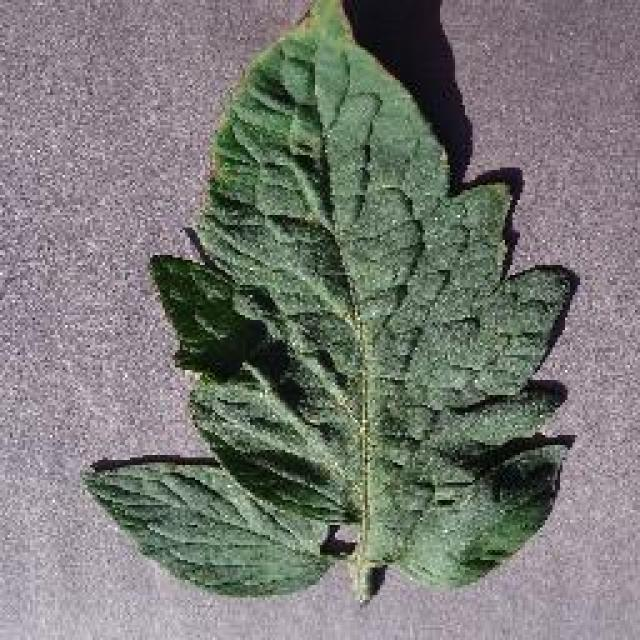Tomato Septoria spot leaf: (157, 0, 575, 590), (86, 462, 329, 600)
